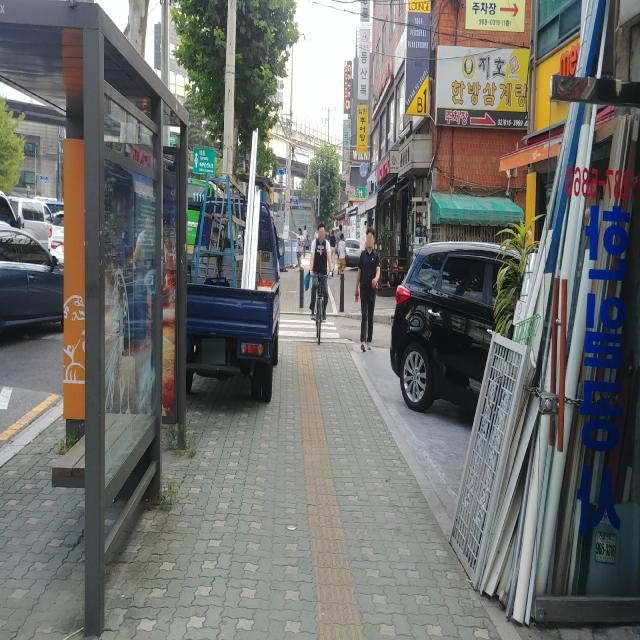횡단보도: (278, 318, 340, 339)
